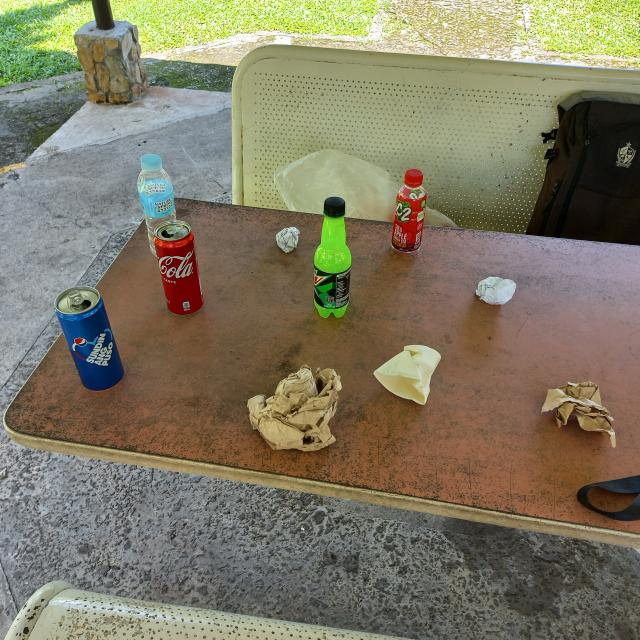Anorganik: (51, 282, 130, 396), (148, 212, 210, 322), (308, 192, 356, 322), (132, 149, 184, 263), (388, 163, 431, 258)
Organik: (237, 361, 351, 458), (537, 374, 625, 454), (367, 338, 446, 411), (470, 271, 518, 310), (270, 220, 304, 256)
